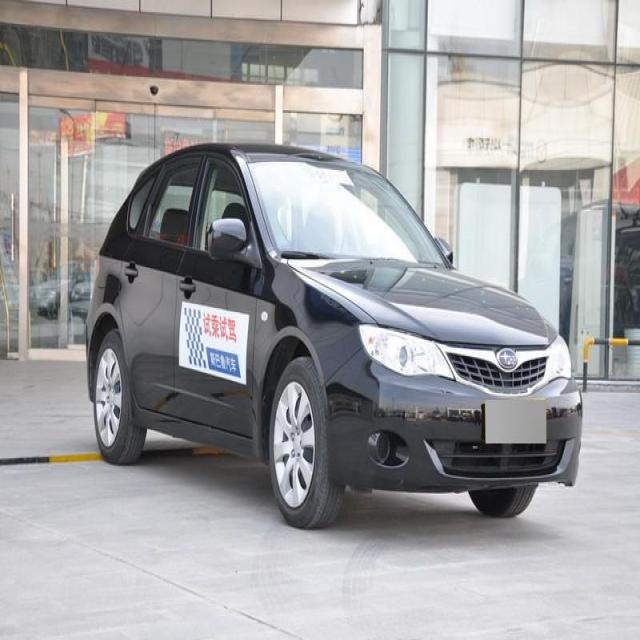door: (123, 153, 205, 408)
front_bumper: (319, 337, 583, 498)
front_glass: (245, 152, 445, 270)
front_left_side_light: (542, 332, 572, 386)
front_left_side_mirror: (436, 230, 454, 268)
front_right_side_door: (170, 150, 260, 442)
front_right_side_light: (358, 320, 455, 382)
front_right_side_mirror: (206, 214, 245, 262)
wheel: (270, 359, 339, 527), (93, 333, 144, 466)
